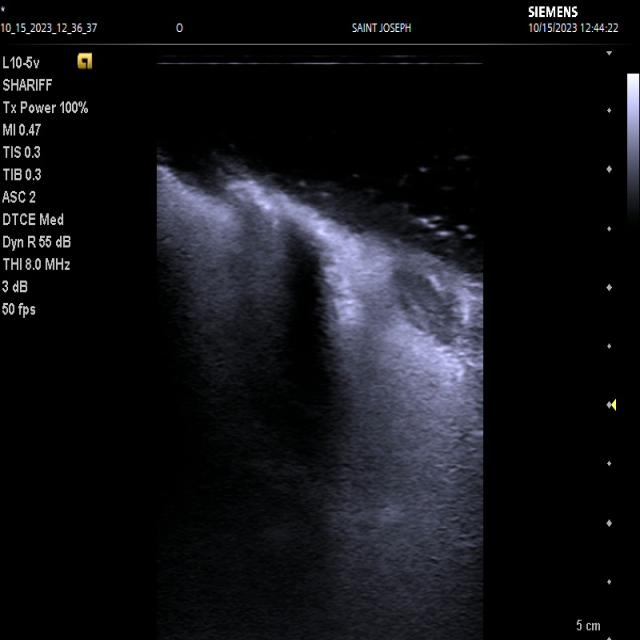tissue: (155, 161, 484, 640)
